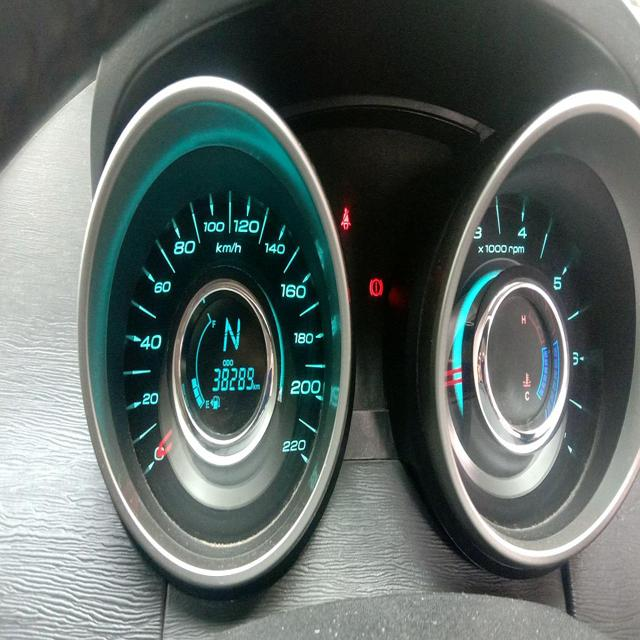odometer: (211, 363, 256, 395)
